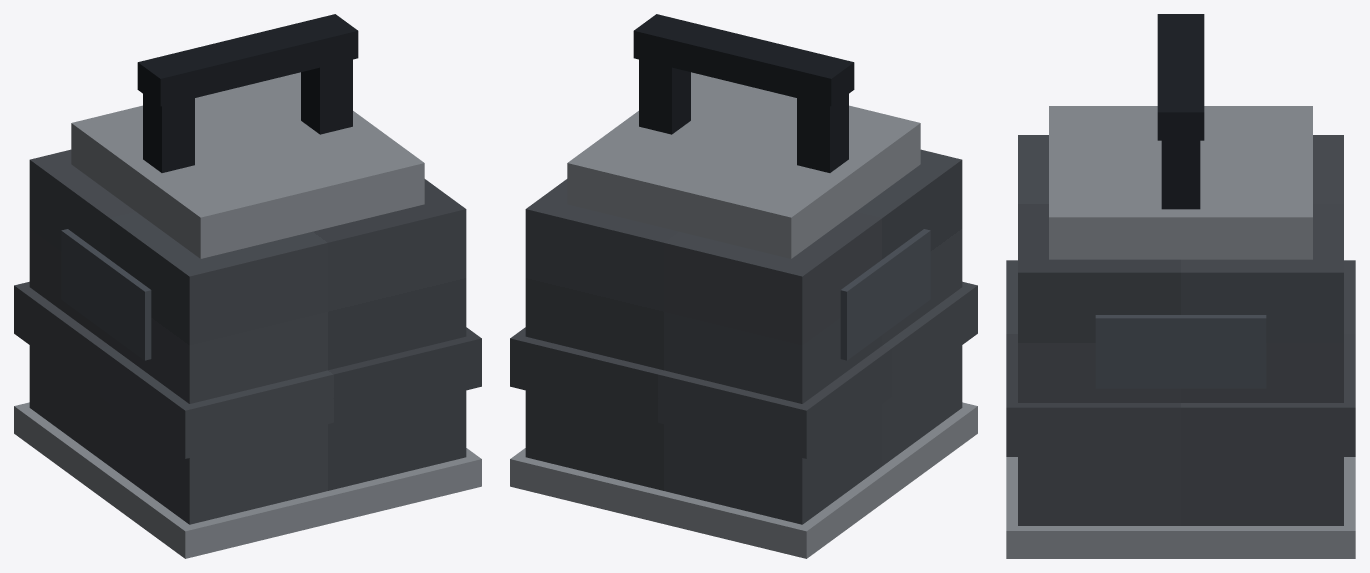
File: ir_relay_weight.glb
3 views of the same model, side by side, from view 1: azimuth 30°, elevation 25°; view 2: azimuth 150°, elevation 25°; view 3: azimuth 270°, elevation 25° (orthographic). The views are drawn at different scales.
Visible parts, largest first — view 1: ir_relay_weight, grip_handle, lightened_panel_0; view 2: ir_relay_weight, grip_handle, lightened_panel_0; view 3: ir_relay_weight, lightened_panel_1, grip_handle.
Part boxes in pixels (bbox=[...]): ir_relay_weight: bbox=[14, 72, 481, 558]; grip_handle: bbox=[137, 14, 358, 172]; lightened_panel_0: bbox=[61, 229, 151, 360]; ir_relay_weight: bbox=[510, 72, 977, 558]; grip_handle: bbox=[633, 14, 854, 172]; lightened_panel_0: bbox=[840, 229, 930, 360]; ir_relay_weight: bbox=[1006, 106, 1355, 558]; lightened_panel_1: bbox=[1095, 315, 1266, 388]; grip_handle: bbox=[1157, 14, 1204, 209].
Bounding box in the file's own units: 0.45 × 0.6 × 0.45.
4 materials, 4 textured.
